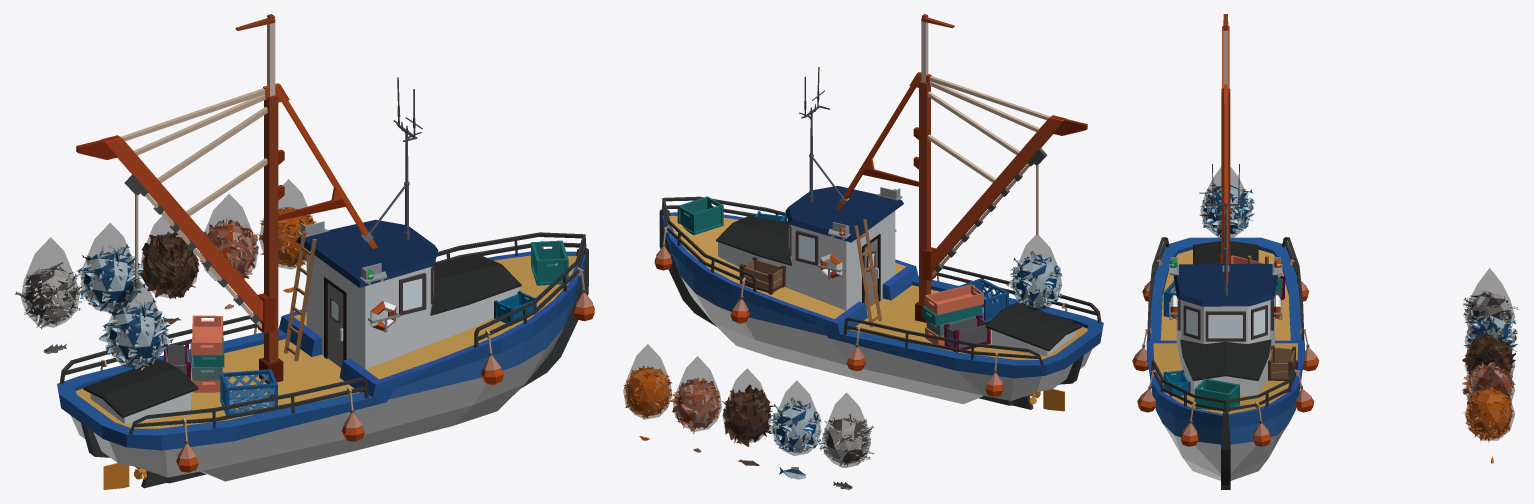
File: boat.glb
3 renders of one model, left to right at view 1: azimuth 30°, elevation 25°; view 2: azimuth 150°, elevation 25°; view 3: azimuth 270°, elevation 25°, orthographic. The views are drawn at different scales.
Visible parts, largest first — view 1: Fishing Boat Tuna, Kraan, Net Big Eyed Tuna, Big Eyed Tuna Net, Alaska Pollock Net, Greenland Halibut Net, Orange Roughy Net, Deksel R, Shrimp Net, Deksel L; view 2: Fishing Boat Tuna, Kraan, Net Big Eyed Tuna, Big Eyed Tuna Net, Alaska Pollock Net, Greenland Halibut Net, Orange Roughy Net, Shrimp Net, Deksel L, Deksel R; view 3: Fishing Boat Tuna, Shrimp Net, Net Big Eyed Tuna, Orange Roughy Net, Alaska Pollock Net, Greenland Halibut Net, Big Eyed Tuna Net, Deksel R, Deksel L.
Part boxes in pixels (box(x1,y1,x2,y2)): Fishing Boat Tuna: box(57, 14, 594, 489); Kraan: box(76, 86, 275, 333); Net Big Eyed Tuna: box(102, 278, 173, 370); Big Eyed Tuna Net: box(76, 223, 146, 313); Alaska Pollock Net: box(15, 237, 82, 329); Greenland Halibut Net: box(139, 214, 199, 298); Orange Roughy Net: box(199, 194, 258, 280); Deksel R: box(102, 368, 198, 417); Shrimp Net: box(258, 179, 316, 269); Deksel L: box(83, 359, 177, 398); Fishing Boat Tuna: box(654, 14, 1103, 411); Kraan: box(921, 74, 1087, 280); Net Big Eyed Tuna: box(1005, 235, 1062, 310); Big Eyed Tuna Net: box(765, 381, 821, 455); Alaska Pollock Net: box(818, 392, 874, 467); Greenland Halibut Net: box(722, 368, 773, 446); Orange Roughy Net: box(669, 356, 721, 433); Shrimp Net: box(623, 344, 672, 419); Deksel L: box(985, 309, 1065, 351); Deksel R: box(1003, 302, 1081, 334); Fishing Boat Tuna: box(1132, 14, 1319, 489); Shrimp Net: box(1462, 365, 1514, 442); Net Big Eyed Tuna: box(1199, 167, 1254, 238); Orange Roughy Net: box(1462, 341, 1515, 404); Alaska Pollock Net: box(1463, 268, 1518, 330); Greenland Halibut Net: box(1462, 317, 1515, 382); Big Eyed Tuna Net: box(1463, 292, 1517, 354); Deksel R: box(1193, 241, 1221, 264); Deksel L: box(1230, 241, 1258, 261).
Bounding box in the file's own units: 1007 × 833 × 789.
2 materials, 2 textured.
